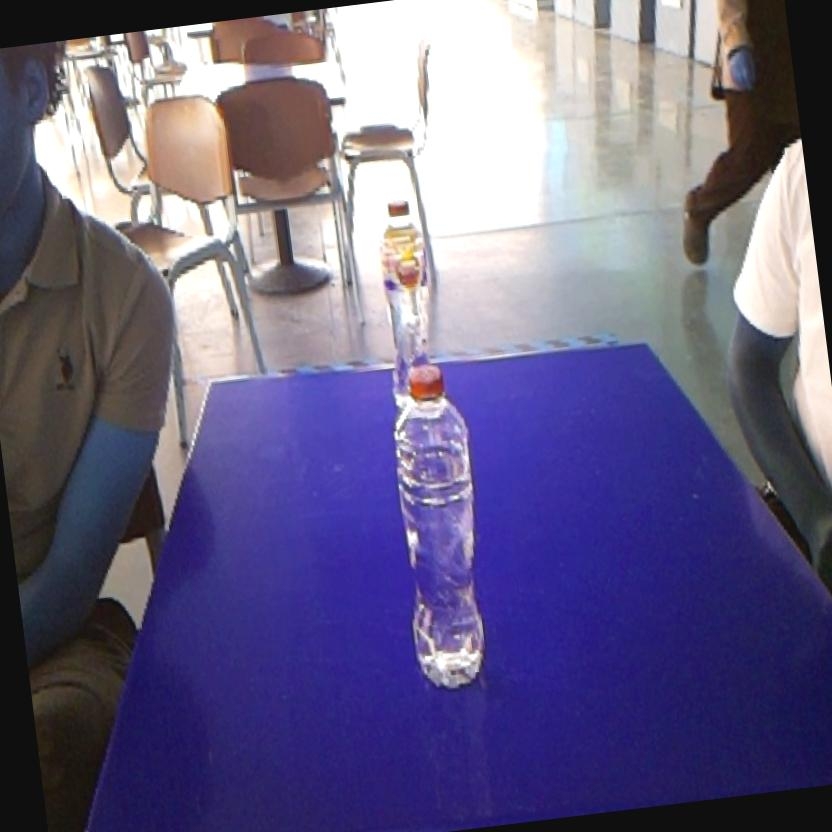good: (360, 180, 447, 370)
no_label: (369, 352, 507, 699)
